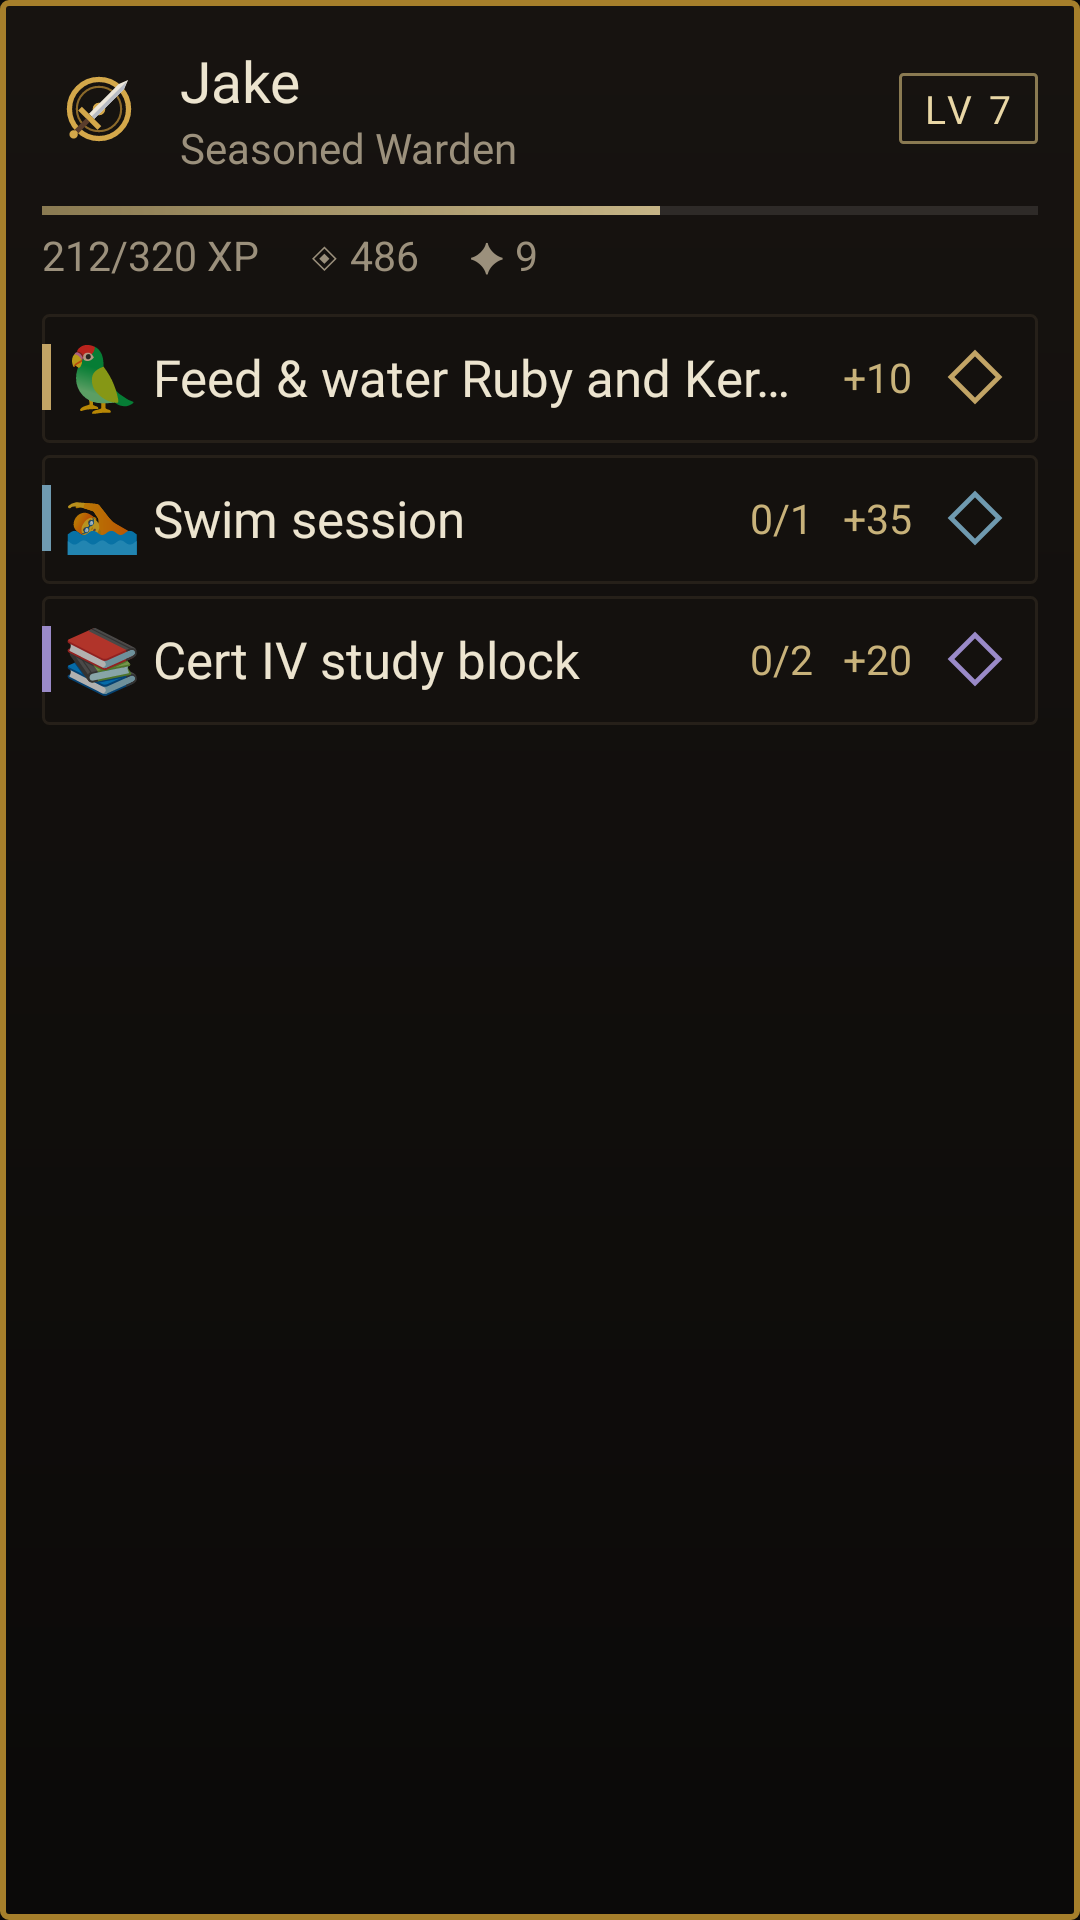

Point at icon controls on the screen. Image size 1080px x 1920px, points as (x,y).
emblem: (99,109)
